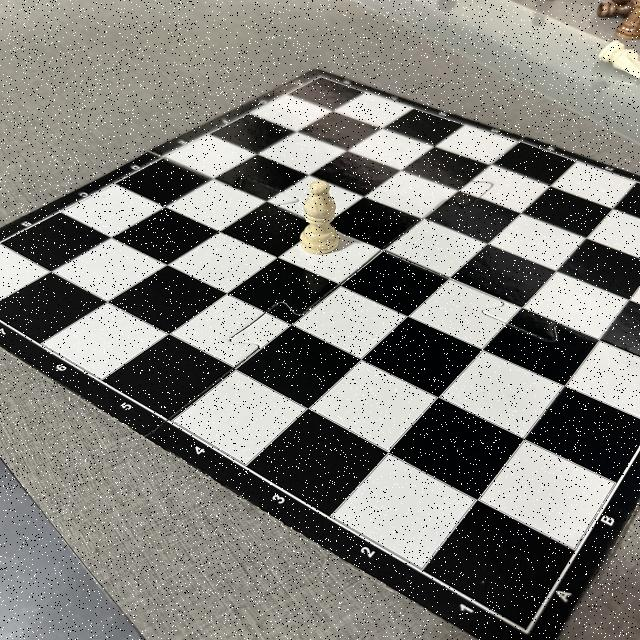White-Bishop: (299, 180, 340, 254)
